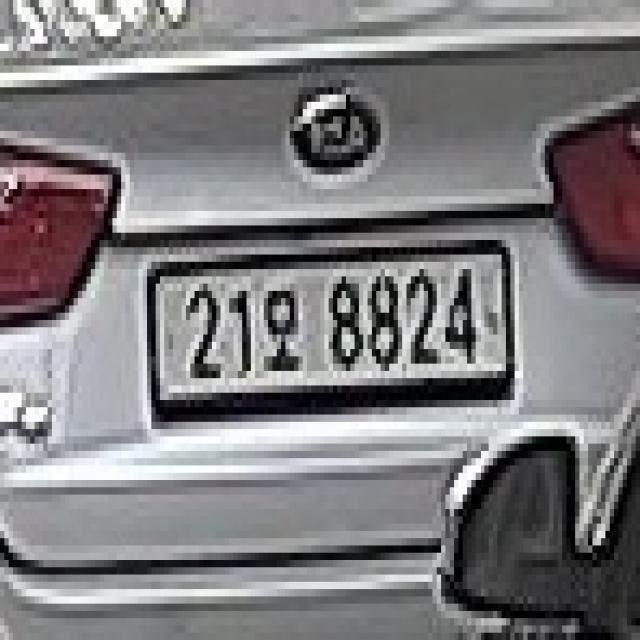1: (229, 285, 256, 385)
2: (181, 274, 225, 385), (408, 266, 444, 377)
4: (446, 260, 485, 375)
8: (325, 273, 363, 378), (370, 265, 405, 375)
license_plate: (146, 238, 515, 422)
mo: (262, 276, 306, 376)
